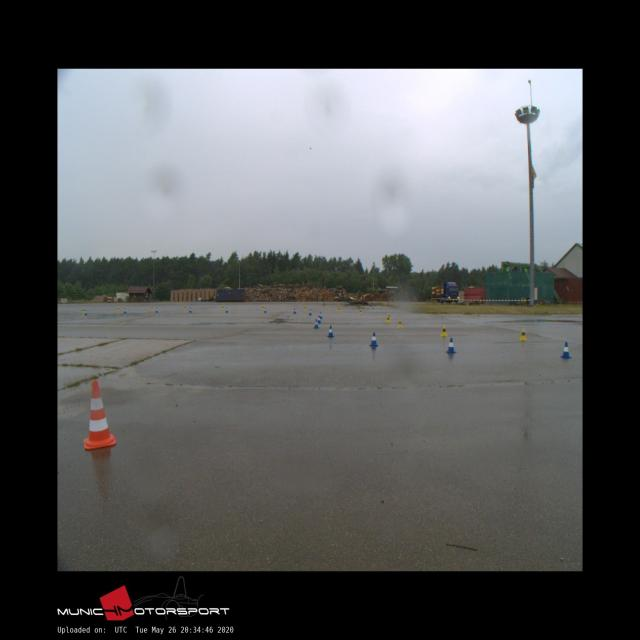blue_cone: (560, 342, 571, 358), (446, 338, 456, 352), (370, 332, 378, 345), (327, 326, 334, 338), (314, 319, 319, 328), (319, 312, 323, 319), (318, 316, 321, 324), (308, 309, 312, 315), (293, 308, 297, 314), (123, 308, 127, 313), (189, 307, 192, 313), (155, 307, 158, 313), (84, 310, 87, 315), (225, 308, 228, 312), (264, 308, 266, 312)
large_orange_cone: (84, 381, 115, 448)
yellow_cone: (519, 328, 527, 340), (440, 325, 448, 336), (397, 319, 403, 327), (386, 316, 390, 323), (359, 308, 362, 314), (337, 307, 341, 311), (221, 305, 224, 310), (82, 308, 85, 313), (388, 312, 390, 318), (117, 307, 120, 311), (304, 305, 306, 310), (262, 305, 264, 310), (184, 305, 186, 310), (151, 306, 153, 310)
